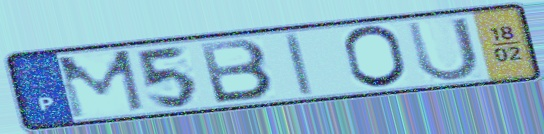5: (132, 42, 202, 110)
B: (196, 37, 278, 106)
I: (281, 30, 317, 99)
M: (53, 47, 149, 122)
O: (340, 23, 411, 90)
U: (403, 15, 483, 84)
